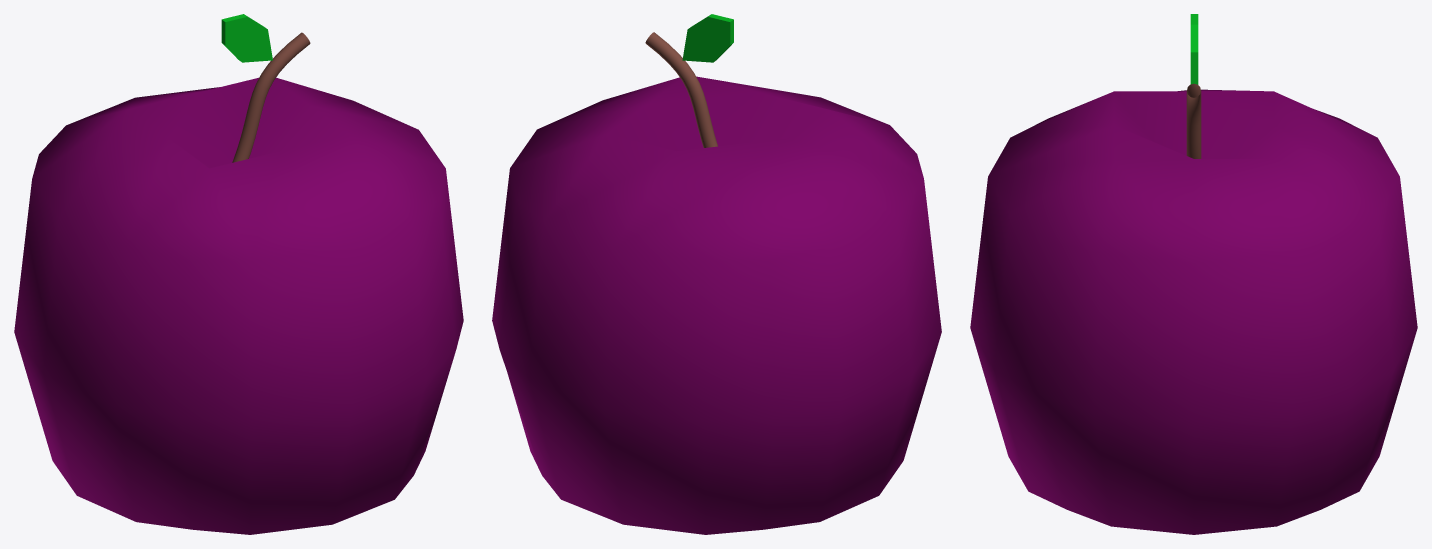
Rendered from other_apple.fbx.
The picture shows the model from 3 angles, left to right: view 1: azimuth 30°, elevation 25°; view 2: azimuth 150°, elevation 25°; view 3: azimuth 270°, elevation 25°; orthographic projection.
Visible parts, largest first — view 1: Base.014, Base.015, happa.002; view 2: Base.014, Base.015, happa.002; view 3: Base.014, Base.015, happa.002.
Boxes of the visible parts, x1,y1,x2,y2 form: Base.014: (14,77,463,534); Base.015: (232,32,310,162); happa.002: (221,14,272,62); Base.014: (492,76,941,534); Base.015: (645,32,717,147); happa.002: (682,14,733,62); Base.014: (970,89,1417,534); Base.015: (1186,83,1201,158); happa.002: (1190,14,1198,84).
Size of the model in its own units: 1.19 by 1.36 by 1.19.
